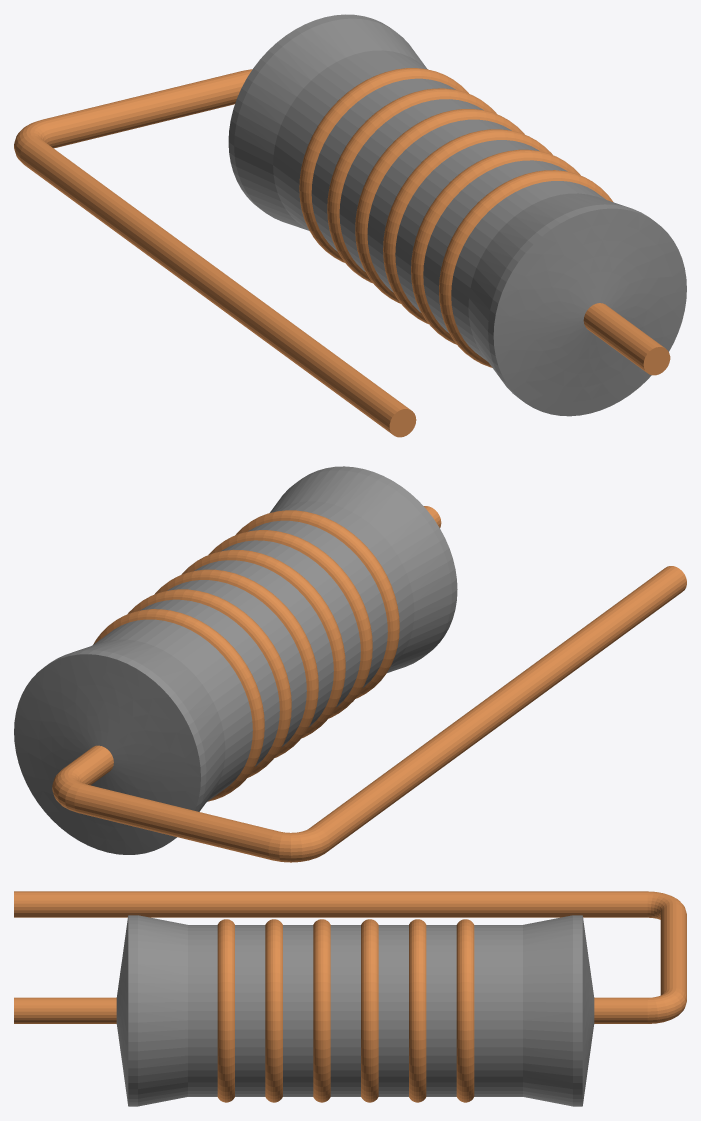
The model's file is L_Axial_L14.5mm_D5.8mm_P7.62mm_Vertical_Fastron_HBCC.glb.
3 views of the same model, one above another, from view 1: azimuth 30°, elevation 25°; view 2: azimuth 150°, elevation 25°; view 3: azimuth 270°, elevation 25° (orthographic). The views are drawn at different scales.
Parts seen in each view (by area): view 1: Shape_IndexedFaceSet.002, Shape_IndexedFaceSet.025, Shape_IndexedFaceSet.018, Shape_IndexedFaceSet.017, Shape_IndexedFaceSet.023, Shape_IndexedFaceSet.004, Shape_IndexedFaceSet.005, Shape_IndexedFaceSet.007, Shape_IndexedFaceSet.011, Shape_IndexedFaceSet.015, Shape_IndexedFaceSet.013, Shape_IndexedFaceSet.009 (+10 smaller); view 2: Shape_IndexedFaceSet.020, Shape_IndexedFaceSet.025, Shape_IndexedFaceSet.004, Shape_IndexedFaceSet.017, Shape_IndexedFaceSet.023, Shape_IndexedFaceSet.018, Shape_IndexedFaceSet.013, Shape_IndexedFaceSet.011, Shape_IndexedFaceSet.015, Shape_IndexedFaceSet.009, Shape_IndexedFaceSet.007, Shape_IndexedFaceSet.016 (+11 smaller); view 3: Shape_IndexedFaceSet.025, Shape_IndexedFaceSet.004, Shape_IndexedFaceSet.018, Shape_IndexedFaceSet.017, Shape_IndexedFaceSet.007, Shape_IndexedFaceSet.009, Shape_IndexedFaceSet.011, Shape_IndexedFaceSet.013, Shape_IndexedFaceSet.015, Shape_IndexedFaceSet.005, Shape_IndexedFaceSet.016, Shape_IndexedFaceSet.010 (+13 smaller).
Part boxes in pixels (x1,y1,x2,y2): Shape_IndexedFaceSet.002: [493, 208, 686, 416]; Shape_IndexedFaceSet.025: [20, 138, 410, 434]; Shape_IndexedFaceSet.018: [234, 18, 426, 230]; Shape_IndexedFaceSet.017: [273, 50, 427, 231]; Shape_IndexedFaceSet.023: [42, 71, 248, 148]; Shape_IndexedFaceSet.004: [468, 193, 629, 378]; Shape_IndexedFaceSet.005: [451, 181, 605, 361]; Shape_IndexedFaceSet.007: [423, 160, 567, 333]; Shape_IndexedFaceSet.011: [367, 119, 511, 292]; Shape_IndexedFaceSet.015: [311, 78, 455, 251]; Shape_IndexedFaceSet.013: [339, 99, 483, 271]; Shape_IndexedFaceSet.009: [395, 140, 539, 312]; Shape_IndexedFaceSet.020: [14, 654, 200, 854]; Shape_IndexedFaceSet.025: [309, 566, 686, 852]; Shape_IndexedFaceSet.004: [270, 470, 451, 672]; Shape_IndexedFaceSet.017: [92, 619, 252, 802]; Shape_IndexedFaceSet.023: [74, 784, 278, 860]; Shape_IndexedFaceSet.018: [71, 639, 225, 811]; Shape_IndexedFaceSet.013: [167, 580, 306, 747]; Shape_IndexedFaceSet.011: [194, 560, 333, 727]; Shape_IndexedFaceSet.015: [140, 599, 279, 766]; Shape_IndexedFaceSet.009: [221, 540, 360, 707]; Shape_IndexedFaceSet.007: [248, 520, 387, 687]; Shape_IndexedFaceSet.016: [93, 609, 264, 801]; Shape_IndexedFaceSet.025: [14, 891, 647, 917]; Shape_IndexedFaceSet.004: [138, 915, 187, 1106]; Shape_IndexedFaceSet.018: [523, 915, 572, 1106]; Shape_IndexedFaceSet.017: [474, 925, 522, 1096]; Shape_IndexedFaceSet.007: [235, 925, 265, 1096]; Shape_IndexedFaceSet.009: [283, 925, 313, 1096]; Shape_IndexedFaceSet.011: [330, 925, 360, 1096]; Shape_IndexedFaceSet.013: [378, 925, 408, 1096]; Shape_IndexedFaceSet.015: [426, 925, 456, 1096]; Shape_IndexedFaceSet.005: [188, 925, 217, 1096]; Shape_IndexedFaceSet.016: [456, 919, 474, 1102]; Shape_IndexedFaceSet.010: [313, 919, 330, 1102].
Size of the model in its own units: 4.3 by 2.28 by 8.03.
